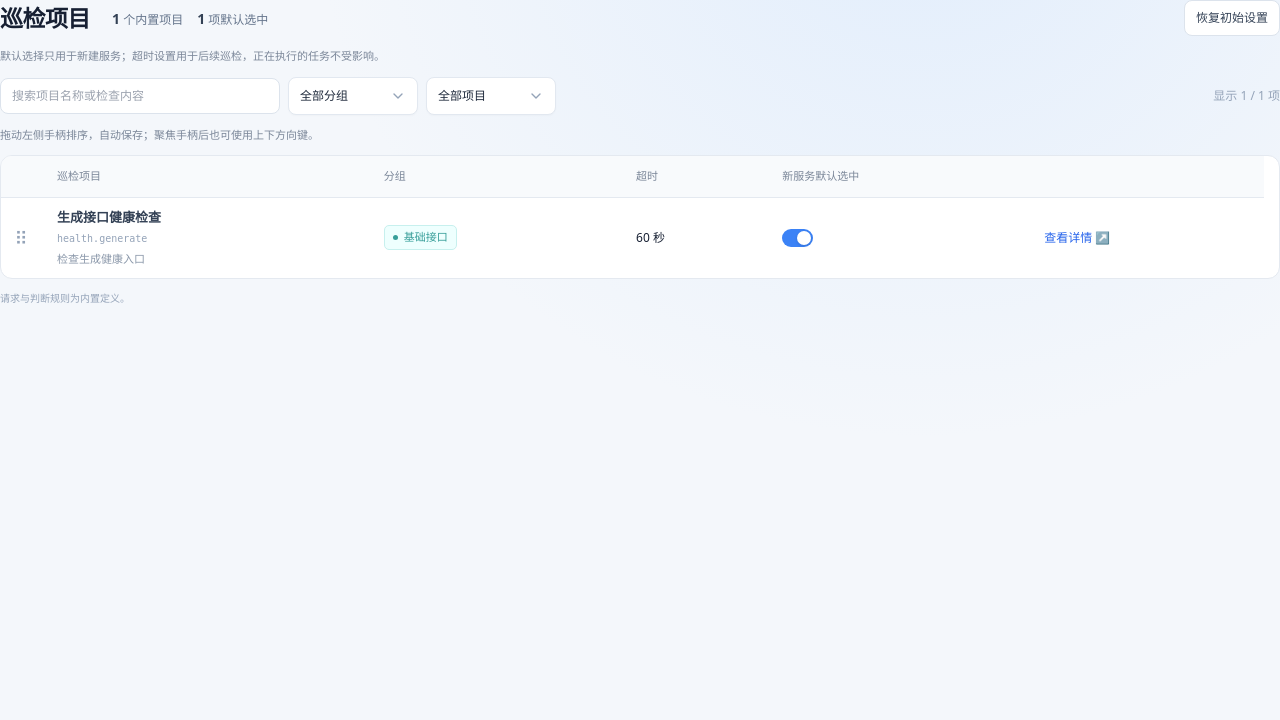
Test case: restoring defaults requires confirmation
The width and height of the screenshot is (1280, 720).
Expected: the switch is shown, x1=782 y1=229 x2=813 y2=247
Step 1. Click the button "恢复初始设置" → (1232, 18), box x1=1184 y1=0 x2=1279 y2=36
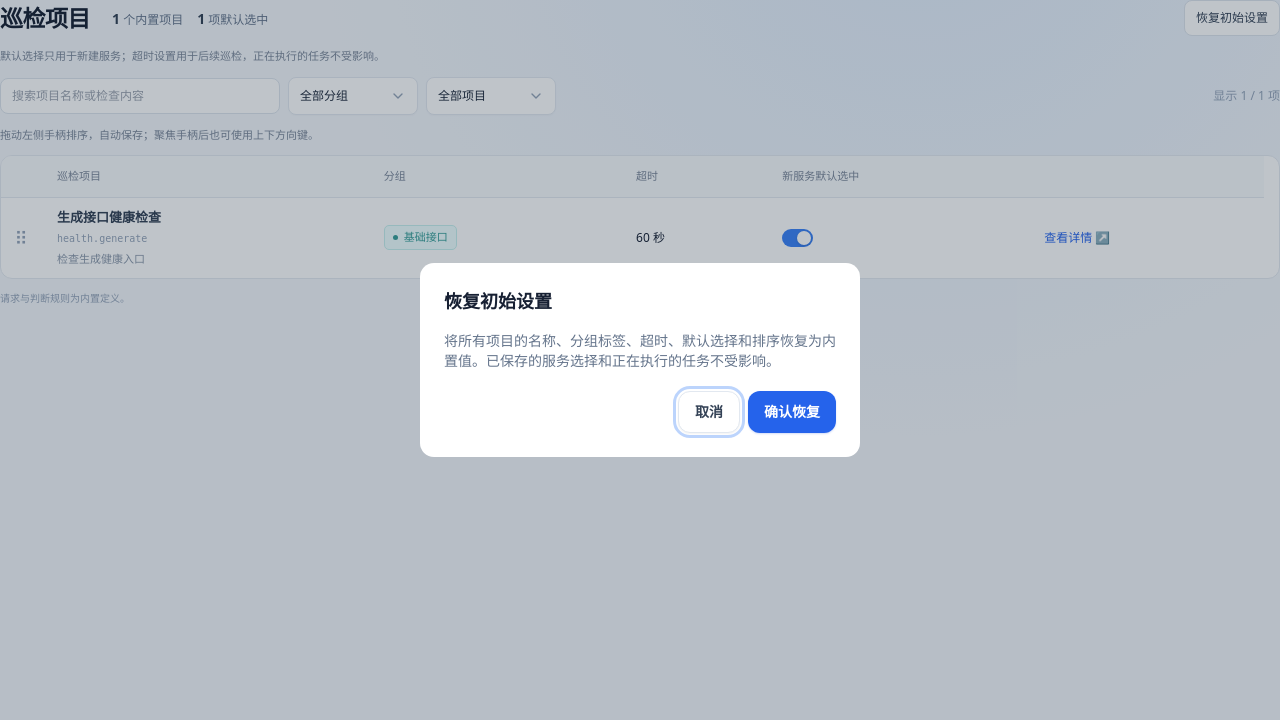
Step 2. Click the button "确认恢复" → (792, 412), box x1=748 y1=391 x2=836 y2=433
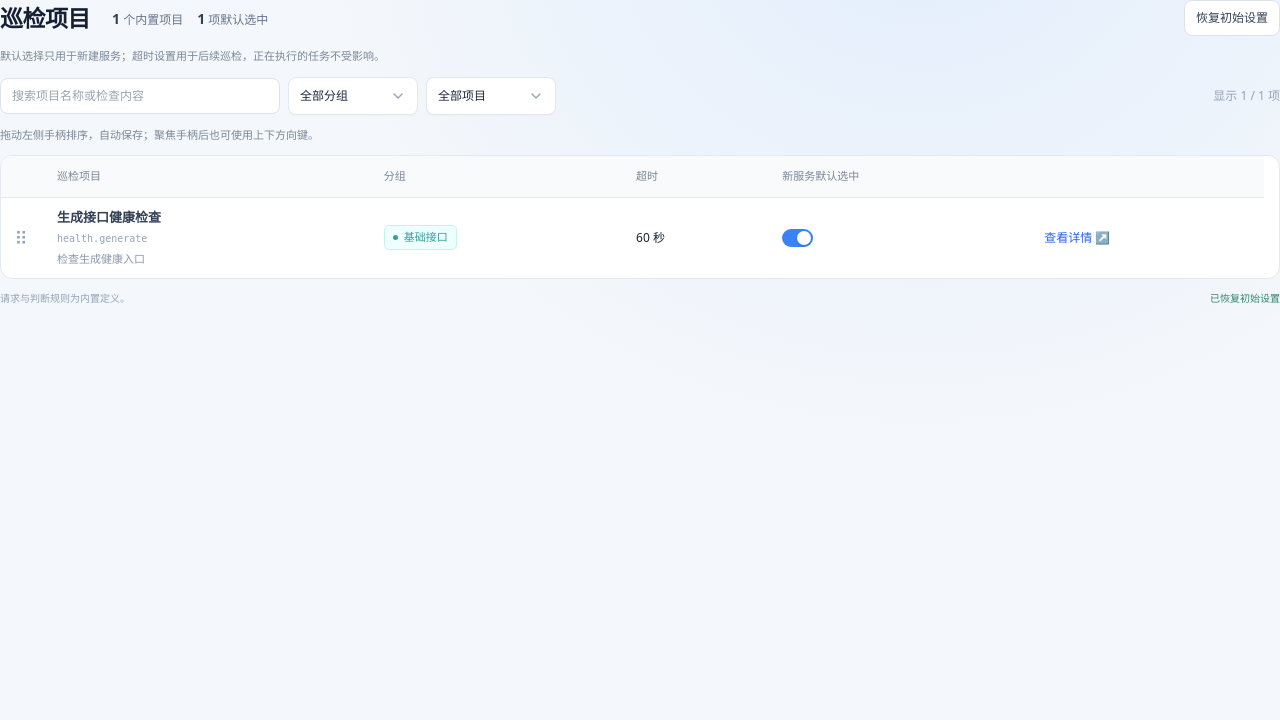
Expected: the message reads "已恢复初始设置", x1=1210 y1=290 x2=1279 y2=304
